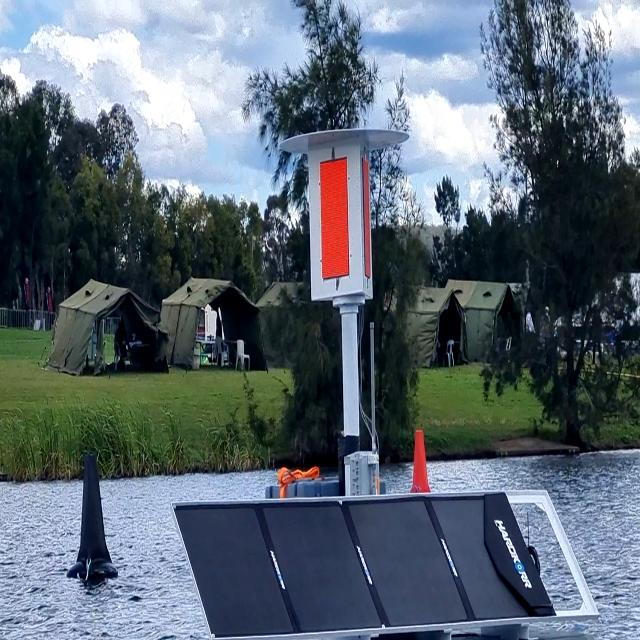led: (314, 148, 361, 289)
